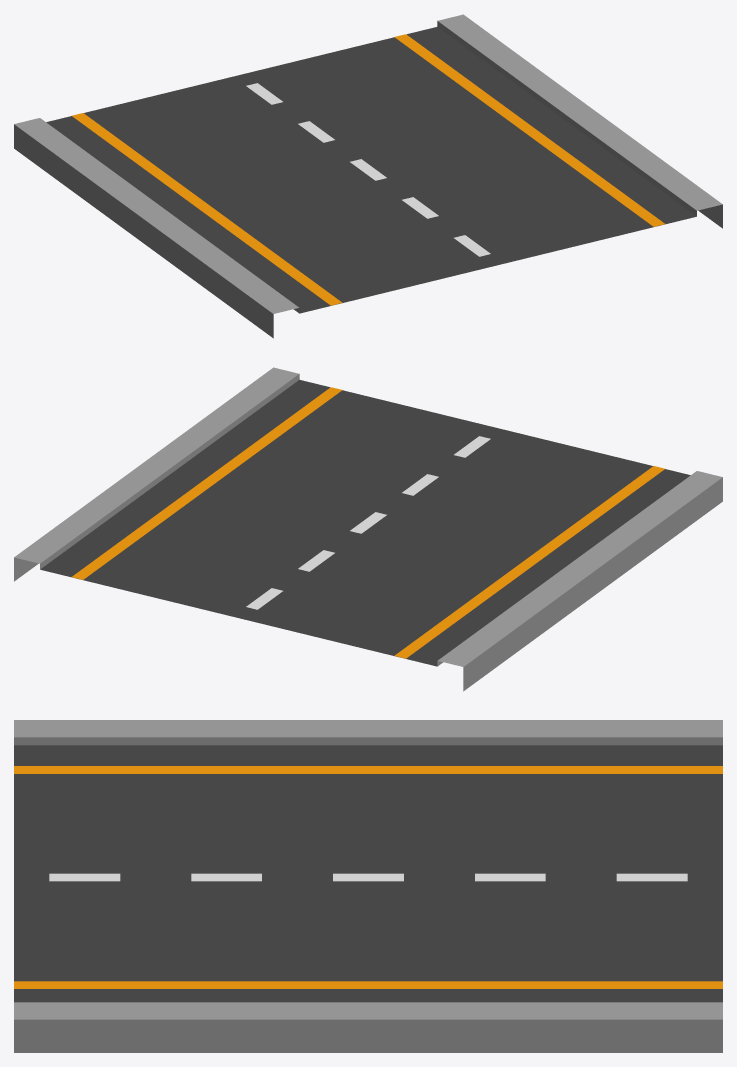
The model's file is Road_A_1.glb.
3 views of the same model, one above another, from view 1: azimuth 30°, elevation 25°; view 2: azimuth 150°, elevation 25°; view 3: azimuth 270°, elevation 25° (orthographic). The views are drawn at different scales.
Visible parts, largest first — view 1: Road_A_1; view 2: Road_A_1; view 3: Road_A_1.
Boxes of the visible parts, left/top/right/bottom form: Road_A_1: left=14, top=14, right=722, bottom=338; Road_A_1: left=14, top=367, right=722, bottom=691; Road_A_1: left=14, top=720, right=722, bottom=1052.
Size of the model in its own units: 8 by 0.4148 by 8.
1 material, 1 textured.
